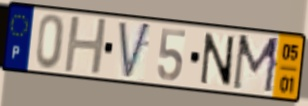0: (33, 12, 66, 72)
5: (156, 26, 188, 83)
H: (62, 16, 110, 76)
M: (230, 33, 283, 97)
N: (199, 31, 236, 89)
V: (117, 20, 154, 83)
